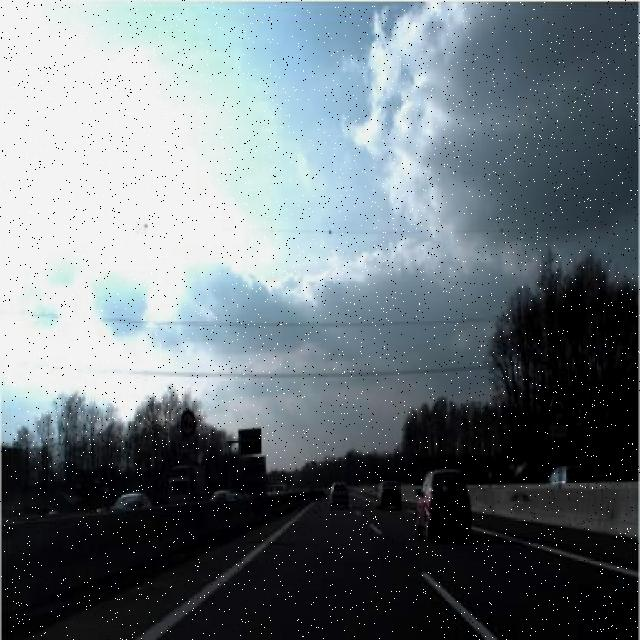Zakaz wyprzedzania: (548, 394, 568, 423), (180, 408, 198, 440)
